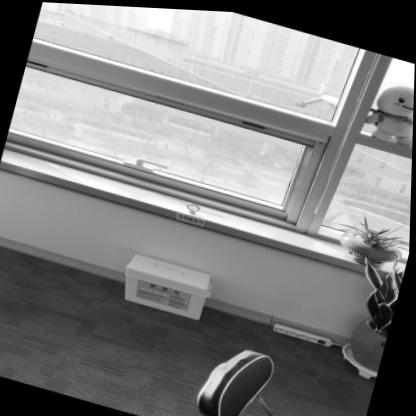DDL: (120, 249, 217, 321)
